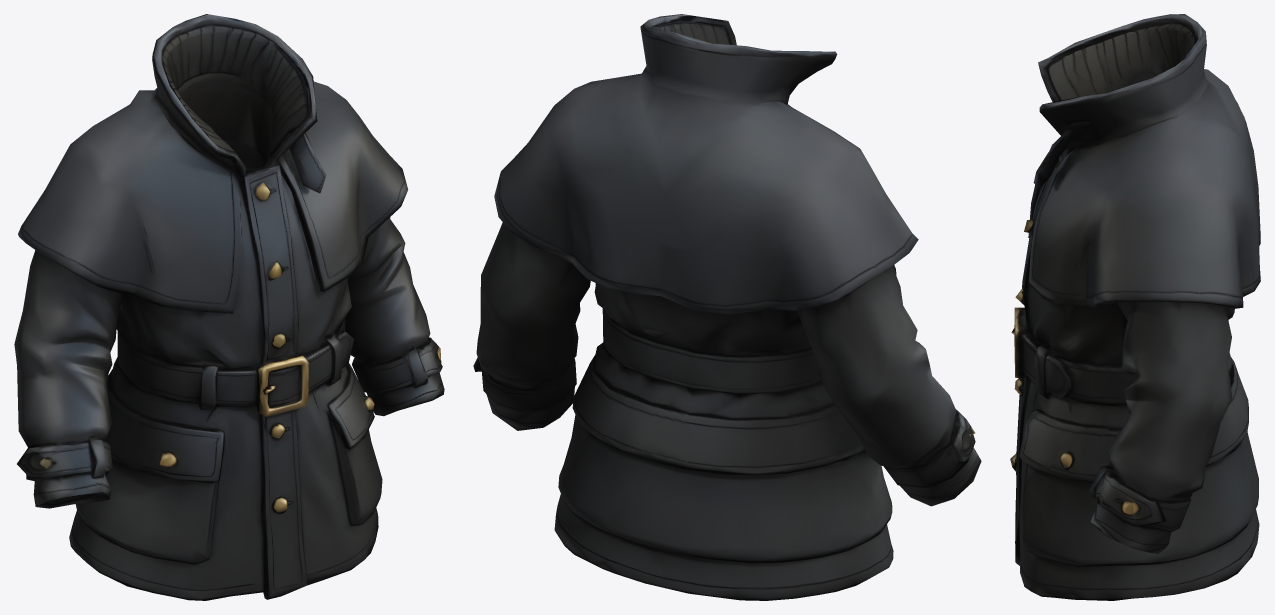
Rendered from PIPELINE3D-arm_oilskin_coat-batch2-10-delivery-model-fbx-74b1e19aee71-d27e8789f4a3.fbx.
The picture shows the model from 3 angles, left to right: view 1: azimuth 30°, elevation 25°; view 2: azimuth 150°, elevation 25°; view 3: azimuth 270°, elevation 25°; orthographic projection. The views are drawn at different scales.
Parts seen in each view (by area): view 1: tripo_node_8d4dfe9f-3bf2-436a-96d0-2e0fdeec7943; view 2: tripo_node_8d4dfe9f-3bf2-436a-96d0-2e0fdeec7943; view 3: tripo_node_8d4dfe9f-3bf2-436a-96d0-2e0fdeec7943.
Part boxes in pixels (x1,y1,x2,y2): tripo_node_8d4dfe9f-3bf2-436a-96d0-2e0fdeec7943: (14,14,444,600); tripo_node_8d4dfe9f-3bf2-436a-96d0-2e0fdeec7943: (473,14,981,600); tripo_node_8d4dfe9f-3bf2-436a-96d0-2e0fdeec7943: (1010,14,1260,600).
Bounding box in the file's own units: 106 × 120 × 51.7.
1 material, 1 textured.
